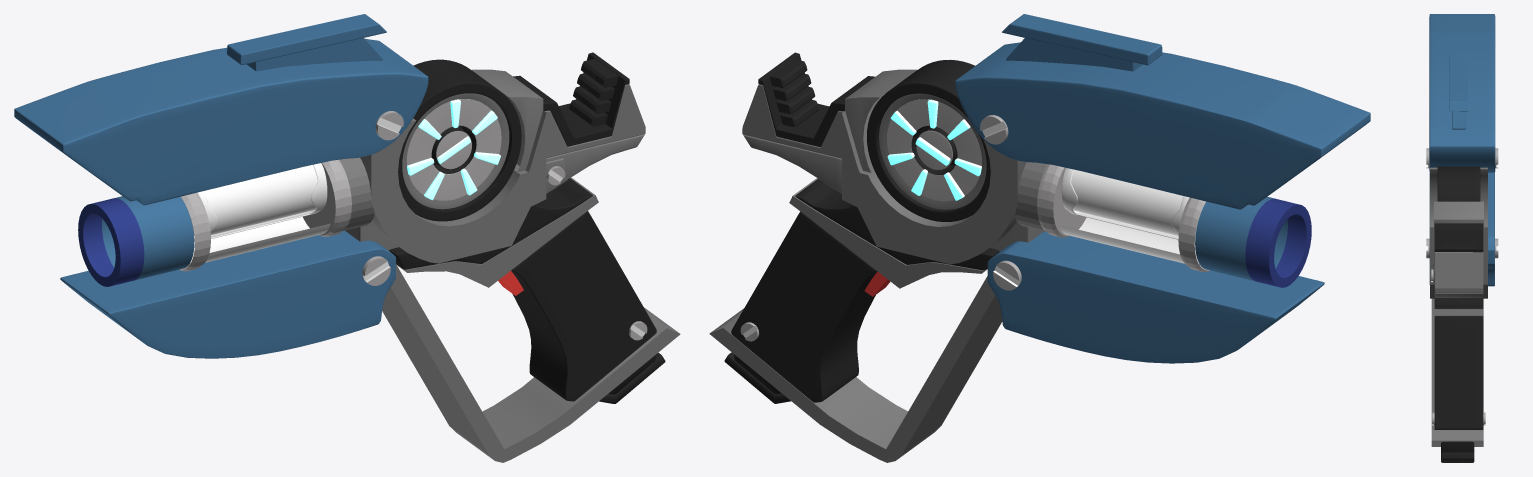
Rendered from gunslug.glb.
3 views of the same model, side by side, from view 1: azimuth 30°, elevation 25°; view 2: azimuth 150°, elevation 25°; view 3: azimuth 270°, elevation 25° (orthographic). The views are drawn at different scales.
Parts seen in each view (by area): view 1: Cube_10, Cube.001_11, Cube.006_0, Cube.010_3, Cube.002_22, Cylinder.014_17, Cylinder.008_27, Cylinder.004_25, Cylinder.006_16, Cube.014_19, Cylinder_12, Cube.011_4 (+13 smaller); view 2: Cube_10, Cube.001_11, Cube.006_0, Cube.010_3, Cube.002_22, Cylinder.014_17, Cylinder.008_27, Cylinder.004_25, Cylinder.006_16, Cube.014_19, Cylinder_12, Cube.011_4 (+14 smaller); view 3: Cube_10, Cube.006_0, Cube.013_31, Cylinder.004_25, Cube.002_22, Cube.015_32, Cube.010_3, Cube.005_24, Cube.014_19, Cube.001_11, Cube.007_1, Cube.019_5 (+6 smaller).
Boxes of the visible parts, left/top/right/bottom form: Cube_10: left=14, top=39, right=428, bottom=205; Cube.001_11: left=60, top=230, right=395, bottom=358; Cube.006_0: left=511, top=211, right=656, bottom=401; Cube.010_3: left=382, top=265, right=680, bottom=462; Cube.002_22: left=360, top=93, right=546, bottom=263; Cylinder.014_17: left=78, top=196, right=194, bottom=286; Cylinder.008_27: left=406, top=99, right=501, bottom=200; Cylinder.004_25: left=398, top=59, right=521, bottom=221; Cylinder.006_16: left=185, top=165, right=317, bottom=235; Cube.014_19: left=227, top=14, right=386, bottom=65; Cylinder_12: left=303, top=157, right=373, bottom=236; Cube.011_4: left=396, top=177, right=598, bottom=287; Cube_10: left=955, top=42, right=1370, bottom=209; Cube.001_11: left=987, top=231, right=1324, bottom=363; Cube.006_0: left=731, top=211, right=877, bottom=402; Cube.010_3: left=709, top=276, right=1002, bottom=462; Cube.002_22: left=842, top=93, right=1026, bottom=264; Cylinder.014_17: left=1195, top=196, right=1311, bottom=287; Cylinder.008_27: left=887, top=99, right=981, bottom=201; Cylinder.004_25: left=867, top=59, right=990, bottom=221; Cylinder.006_16: left=1071, top=169, right=1205, bottom=236; Cube.014_19: left=1002, top=14, right=1162, bottom=65; Cylinder_12: left=1014, top=162, right=1086, bottom=237; Cube.011_4: left=789, top=178, right=987, bottom=288; Cube_10: left=1429, top=14, right=1495, bottom=172; Cube.006_0: left=1434, top=316, right=1483, bottom=429; Cube.013_31: left=1434, top=252, right=1483, bottom=292; Cylinder.004_25: left=1437, top=166, right=1480, bottom=201; Cube.002_22: left=1430, top=167, right=1487, bottom=298; Cube.015_32: left=1434, top=223, right=1483, bottom=252; Cube.010_3: left=1431, top=298, right=1483, bottom=446; Cube.005_24: left=1434, top=201, right=1483, bottom=227; Cube.014_19: left=1449, top=55, right=1468, bottom=111; Cube.001_11: left=1429, top=172, right=1494, bottom=286; Cube.007_1: left=1434, top=298, right=1483, bottom=308; Cube.019_5: left=1441, top=441, right=1474, bottom=452.
Size of the model in its own units: 19.43 by 13.75 by 4.9.
